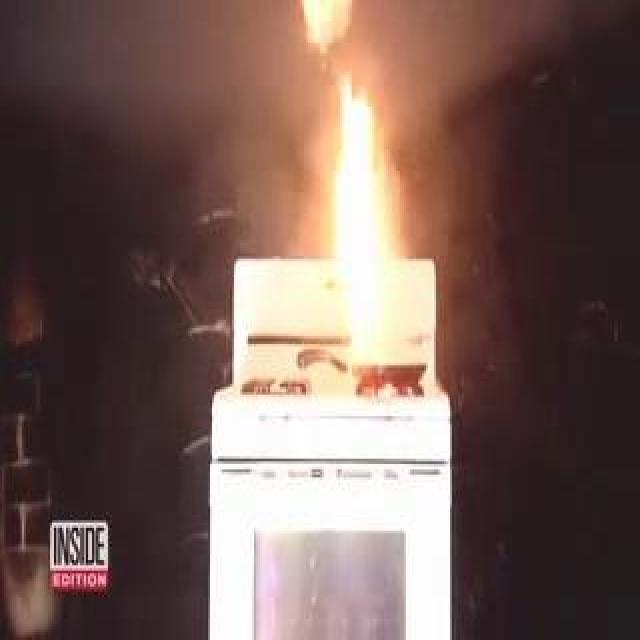Fire: (310, 2, 420, 362)
